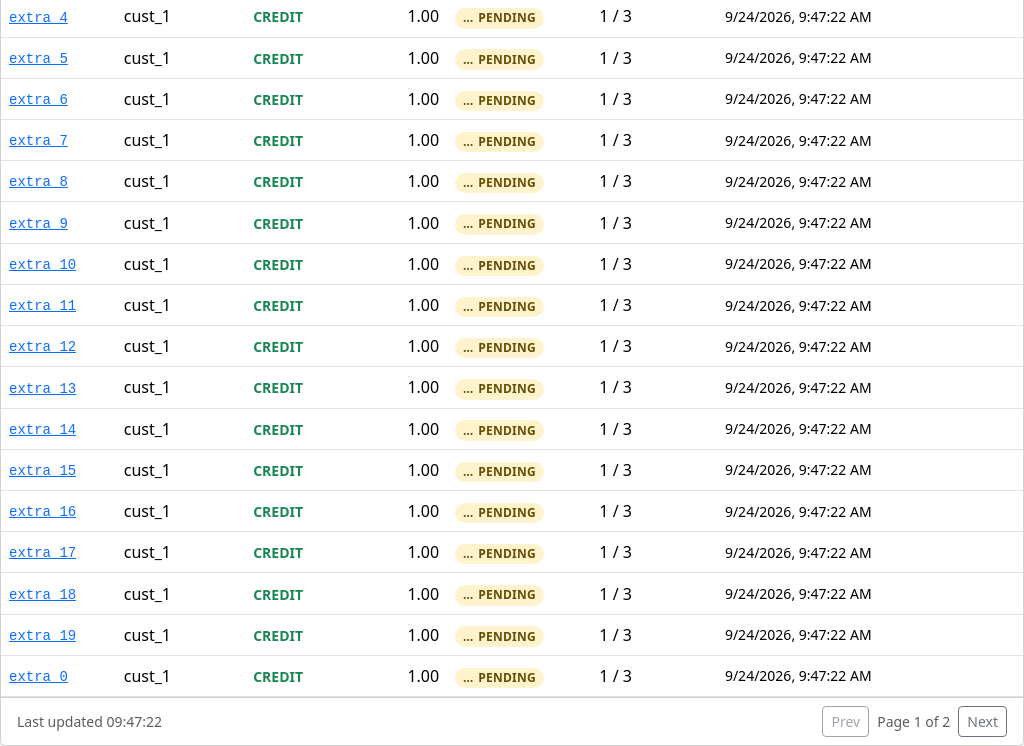
Test: T-4 CustomerDetailPage (FR-8, FR-10) › renders balance + updated_at and paginates history with page tracked in the URL
(page scrolled)
Expected: the text "Page 1 of 2" is shown, top-left (877, 711), bottom-right (950, 732)
Click the button "Next".
click(983, 722)  # box top-left (958, 706), bottom-right (1007, 737)
(page scrolled)
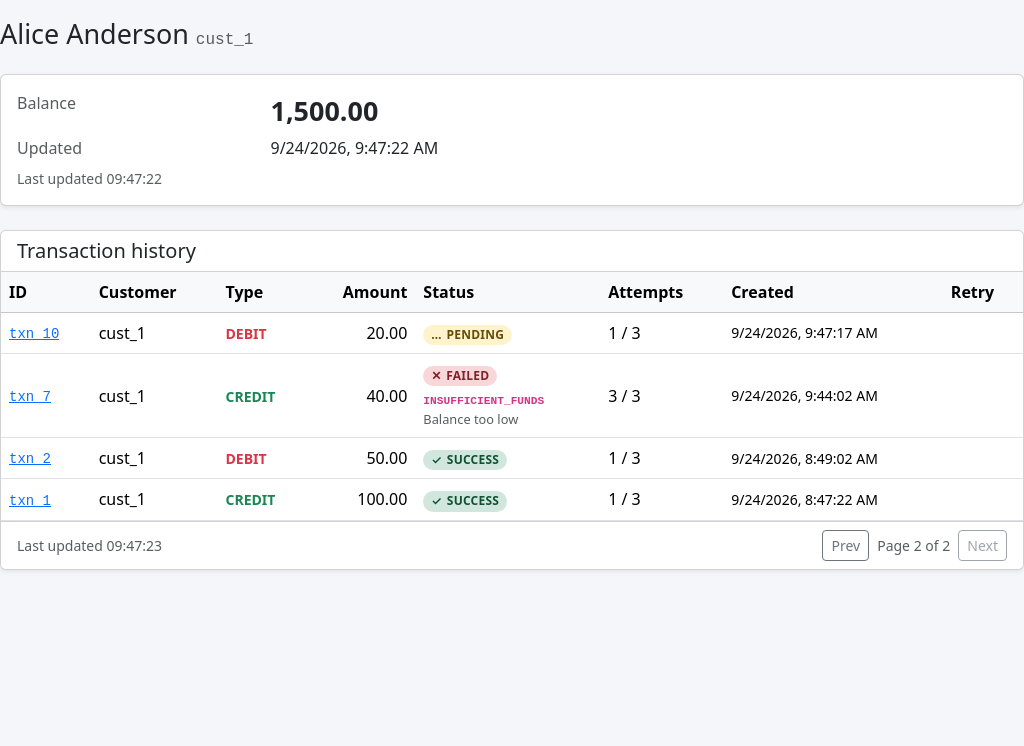
Now the text "Page 2 of 2" is shown, box top-left (877, 534), bottom-right (950, 556)
